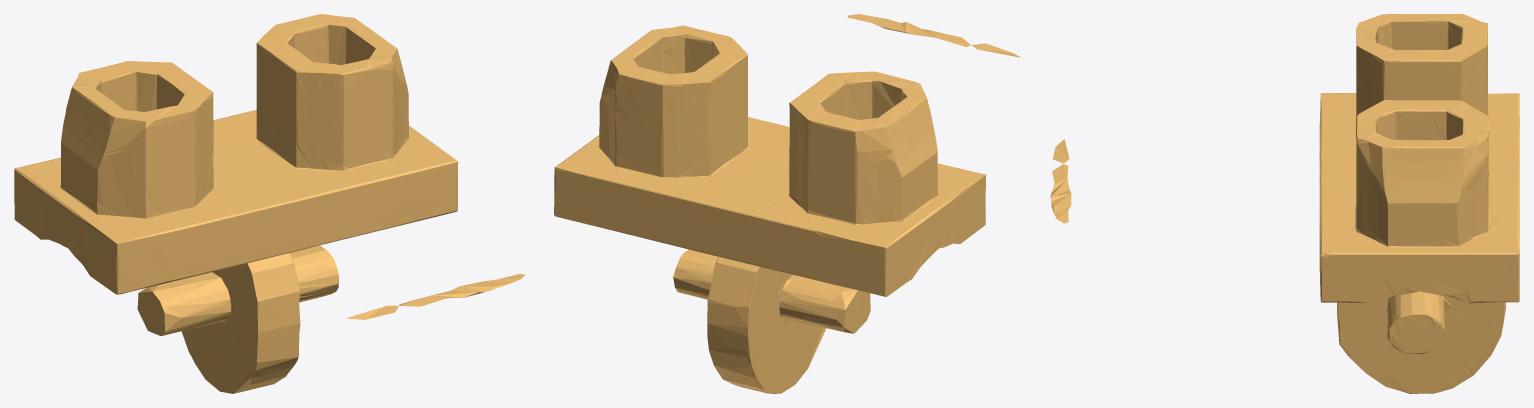
The model's file is spider-1.glb.
The picture shows the model from 3 angles, left to right: view 1: azimuth 30°, elevation 25°; view 2: azimuth 150°, elevation 25°; view 3: azimuth 270°, elevation 25°; orthographic projection. The views are drawn at different scales.
Visible parts, largest first — view 1: part_01; view 2: part_01; view 3: part_01.
Boxes of the visible parts, x1,y1,x2,y2 form: part_01: (14, 14, 525, 393); part_01: (554, 14, 1021, 393); part_01: (1050, 14, 1519, 393).
Size of the model in its own units: 0.3344 by 0.2947 by 0.4121.
